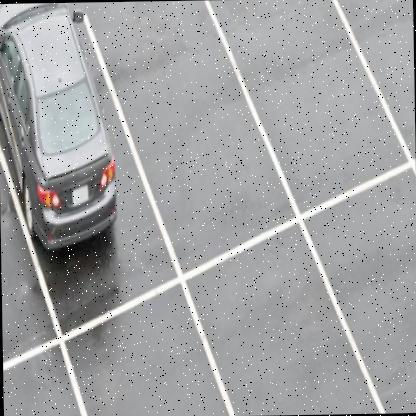Car: (29, 26, 86, 218), (373, 2, 408, 97)
Empty: (138, 30, 232, 204), (268, 24, 354, 200), (234, 304, 316, 402), (363, 223, 410, 349), (124, 311, 179, 405), (3, 268, 40, 322), (30, 365, 56, 396)
